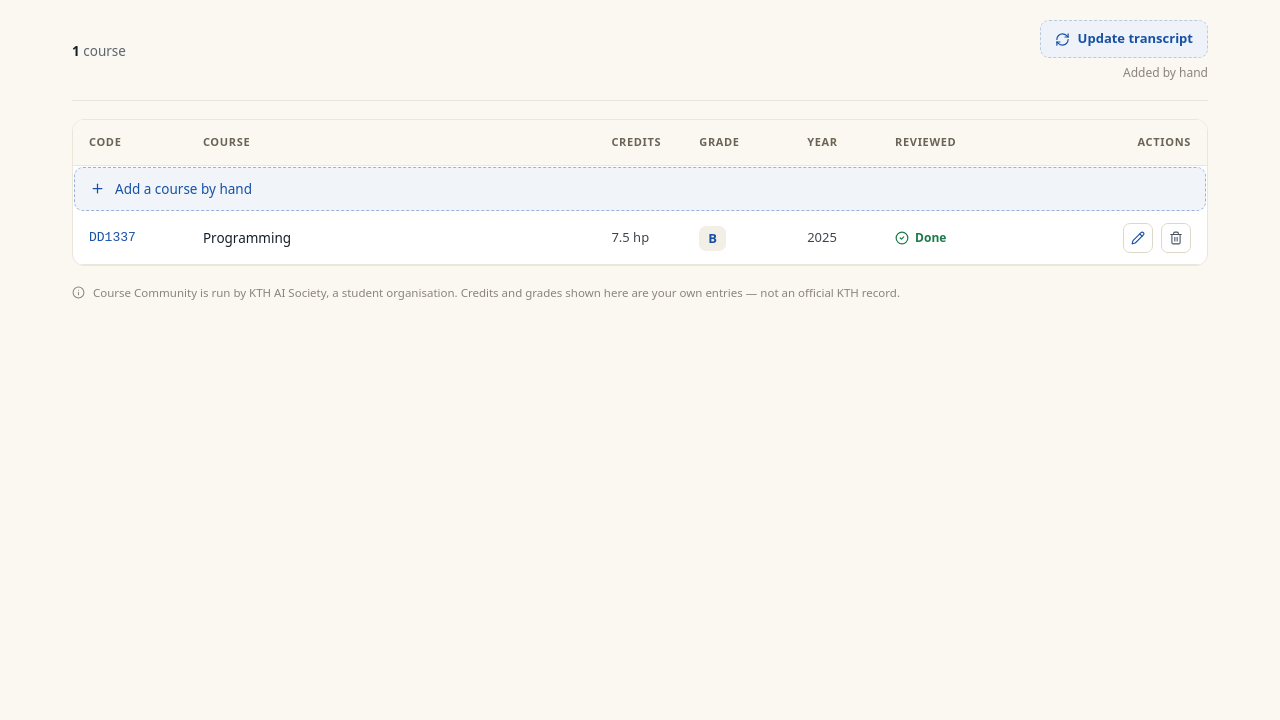
Test case: adding by hand › keeps the draft and refuses the invalid attendance year 1899
Click the button "Add a course by hand" at (183, 188), box 74,166 -> 1206,211
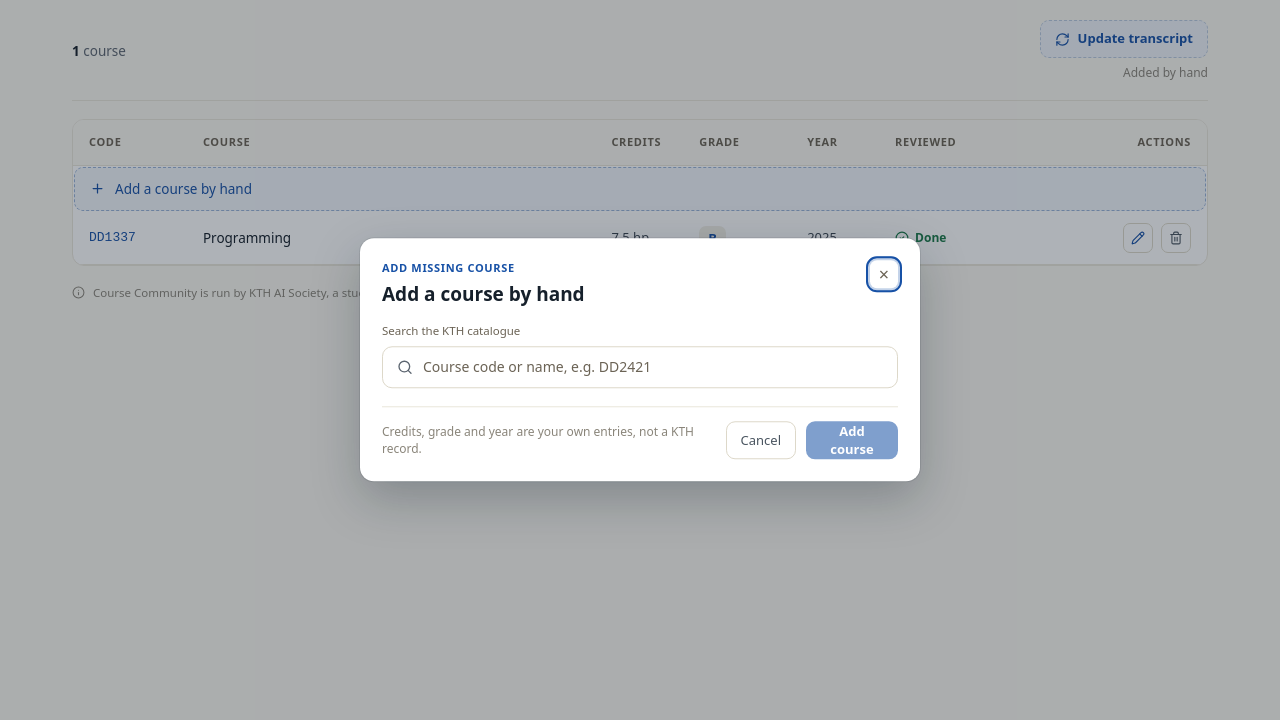
Type "DD2380" into the search field named "Search the KTH catalogue" at (653, 368), box 423,358 -> 883,378
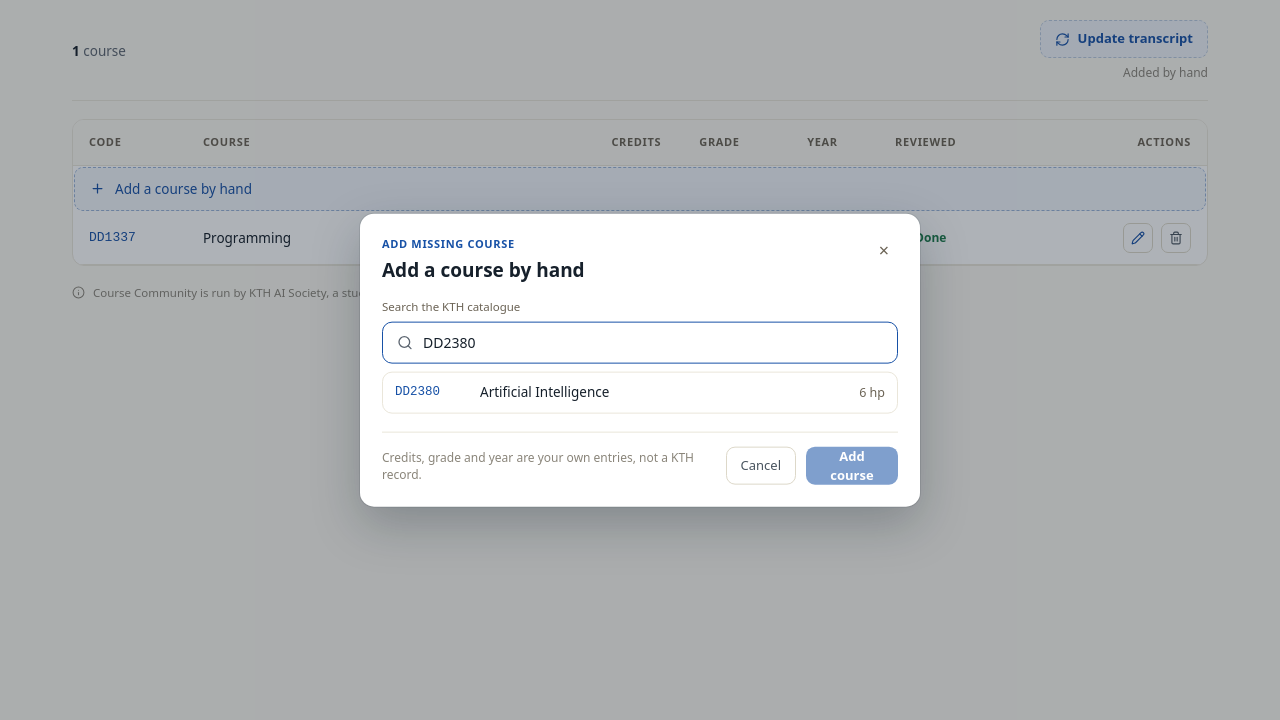
Click the button "DD2380 Artificial Intelligence 6 hp" at (418, 392), box 383,373 -> 897,412
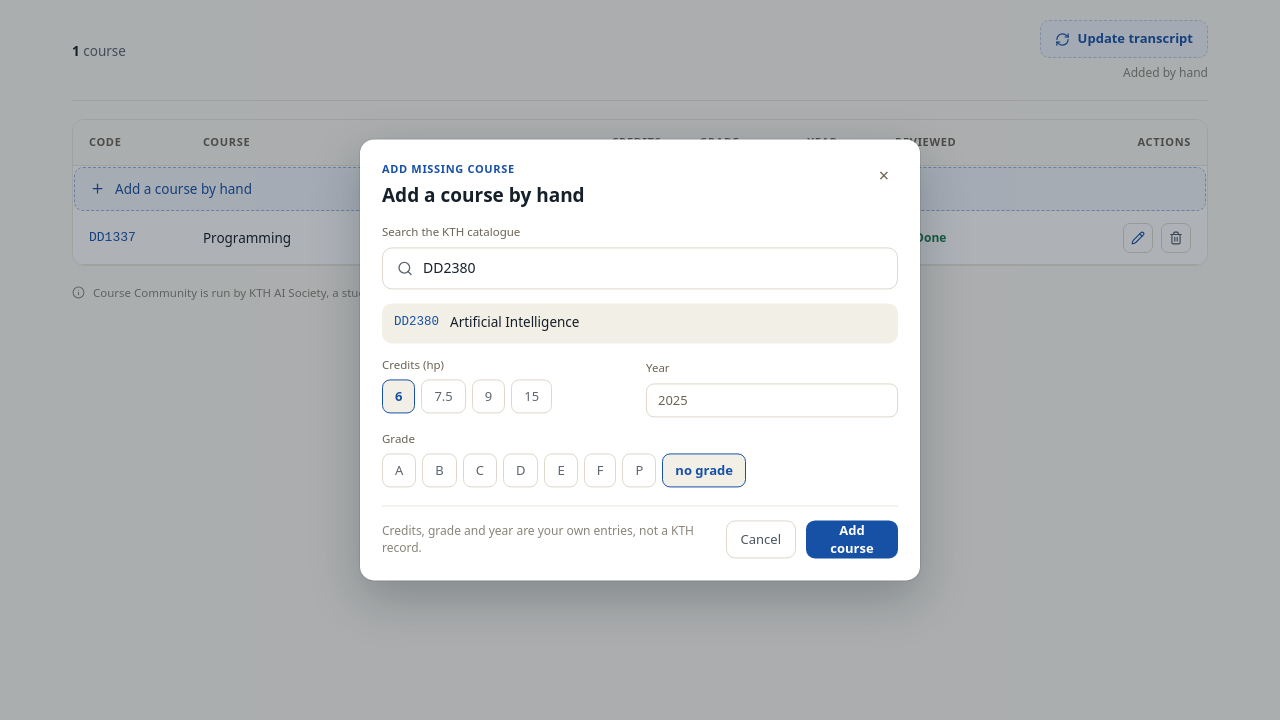
Type "1899" into the field labelled "Year" at (772, 400), box 646,383 -> 898,417
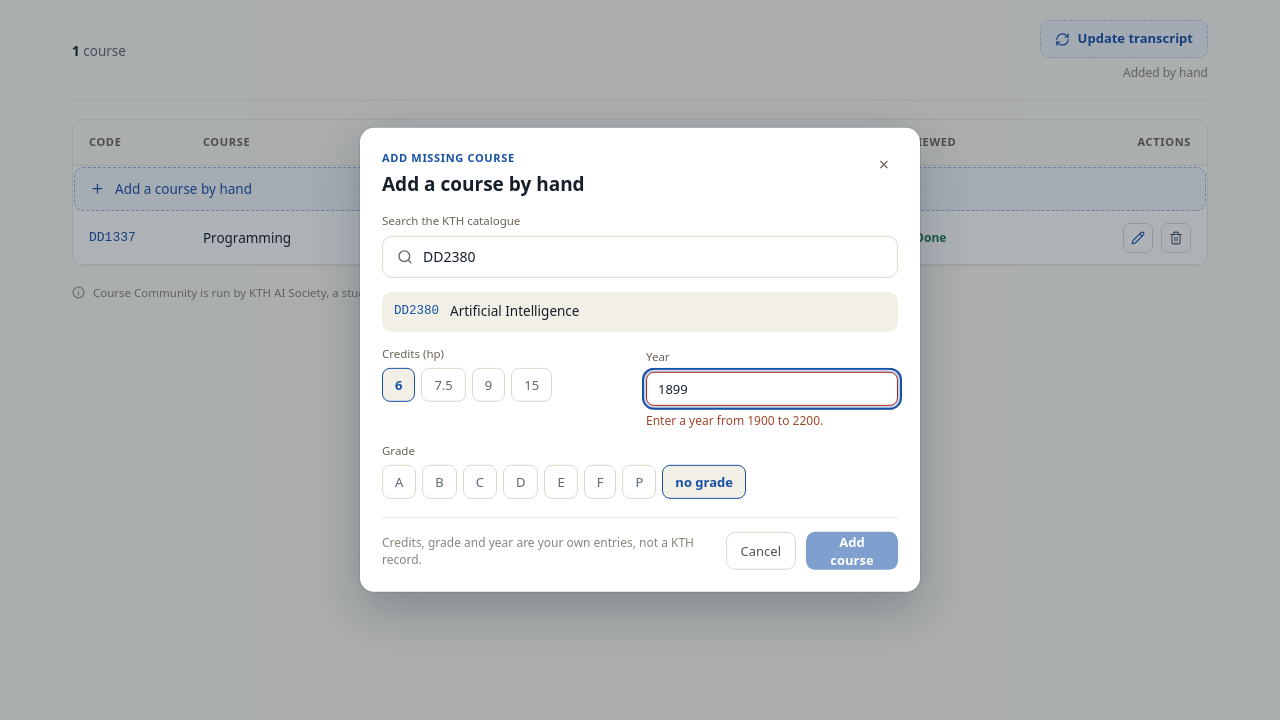
Expected: the message reads "Enter a year from 1900 to 2200.", 646,412 -> 823,429
Expected: the button "Add course" is disabled, 806,532 -> 898,570
